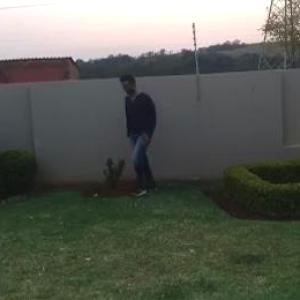follow: (126, 72, 162, 192)
